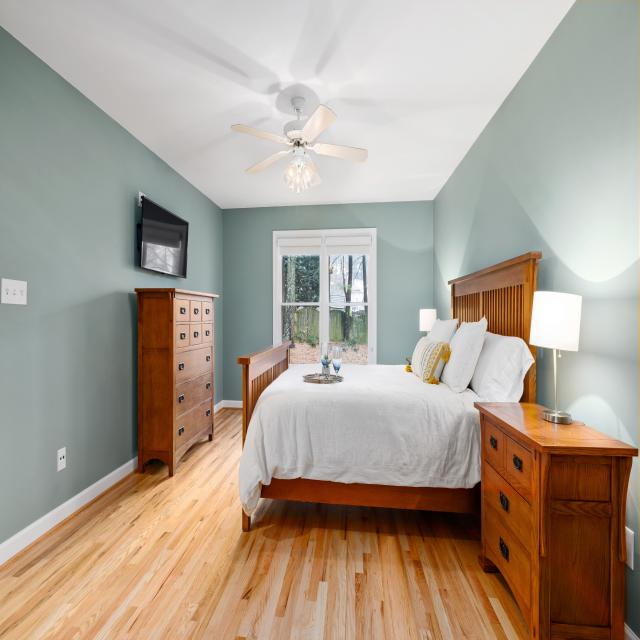floor: (0, 407, 532, 640)
wall: (433, 0, 640, 640), (0, 25, 223, 569), (222, 200, 433, 408), (137, 191, 189, 279)
